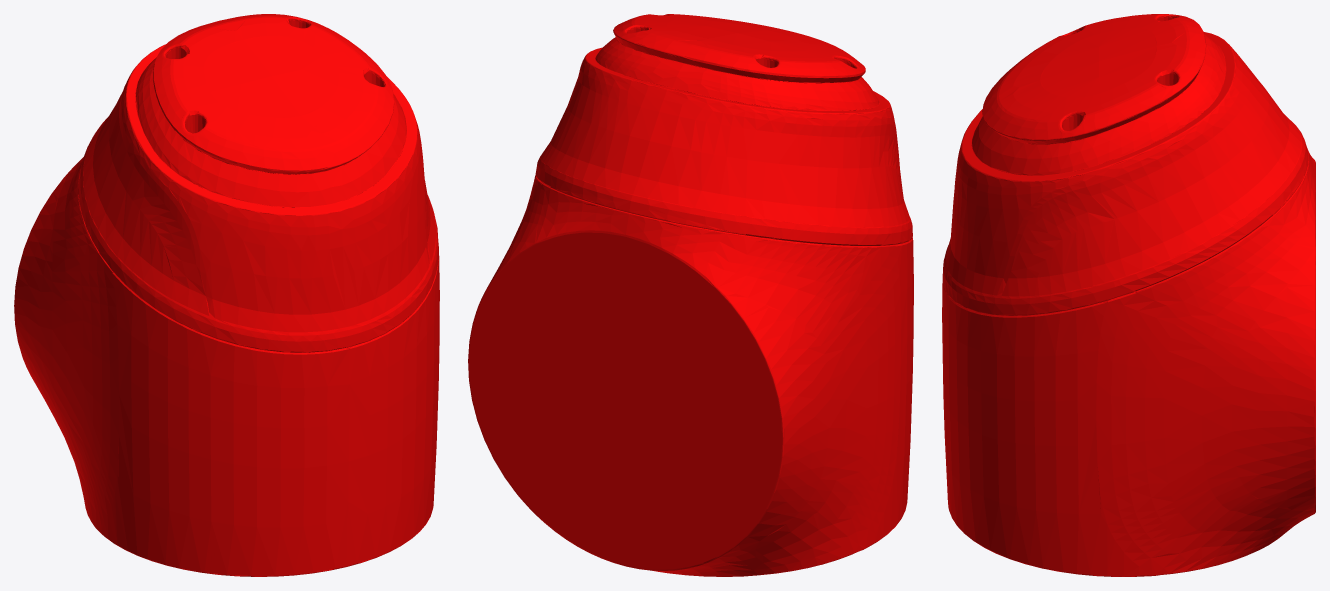
3 views of the same model, side by side, from view 1: azimuth 30°, elevation 25°; view 2: azimuth 150°, elevation 25°; view 3: azimuth 270°, elevation 25° (orthographic). The views are drawn at different scales.
Parts seen in each view (by area): view 1: A0509_1_1; view 2: A0509_1_1; view 3: A0509_1_1.
Boxes of the visible parts, x1,y1,x2,y2 form: A0509_1_1: [14, 14, 439, 576]; A0509_1_1: [468, 14, 913, 576]; A0509_1_1: [942, 14, 1315, 576].
Bounding box in the file's own units: 122 × 125 × 170.
